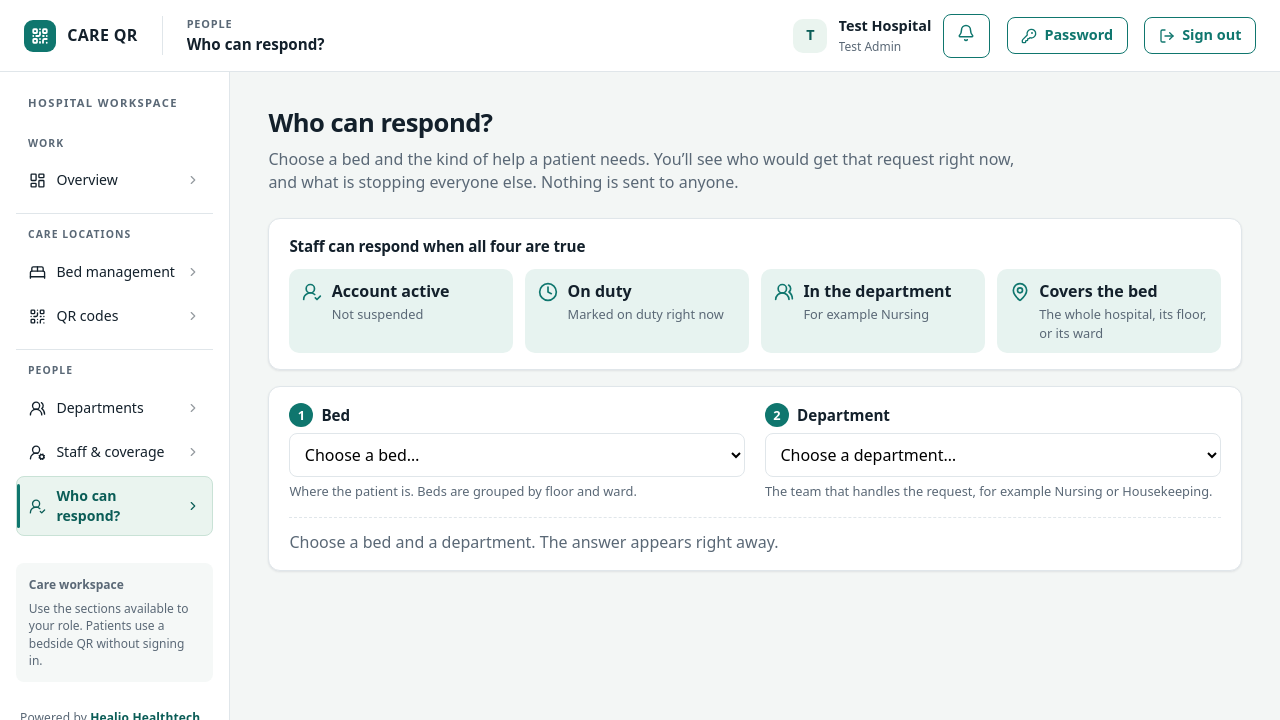
Scenario: Who can respond? › ignores an older answer that arrives after the choice changed
Step 1. Select "Bed A 01" in the dropdown labelled "Bed" → (517, 455), box [289,433,745,476]
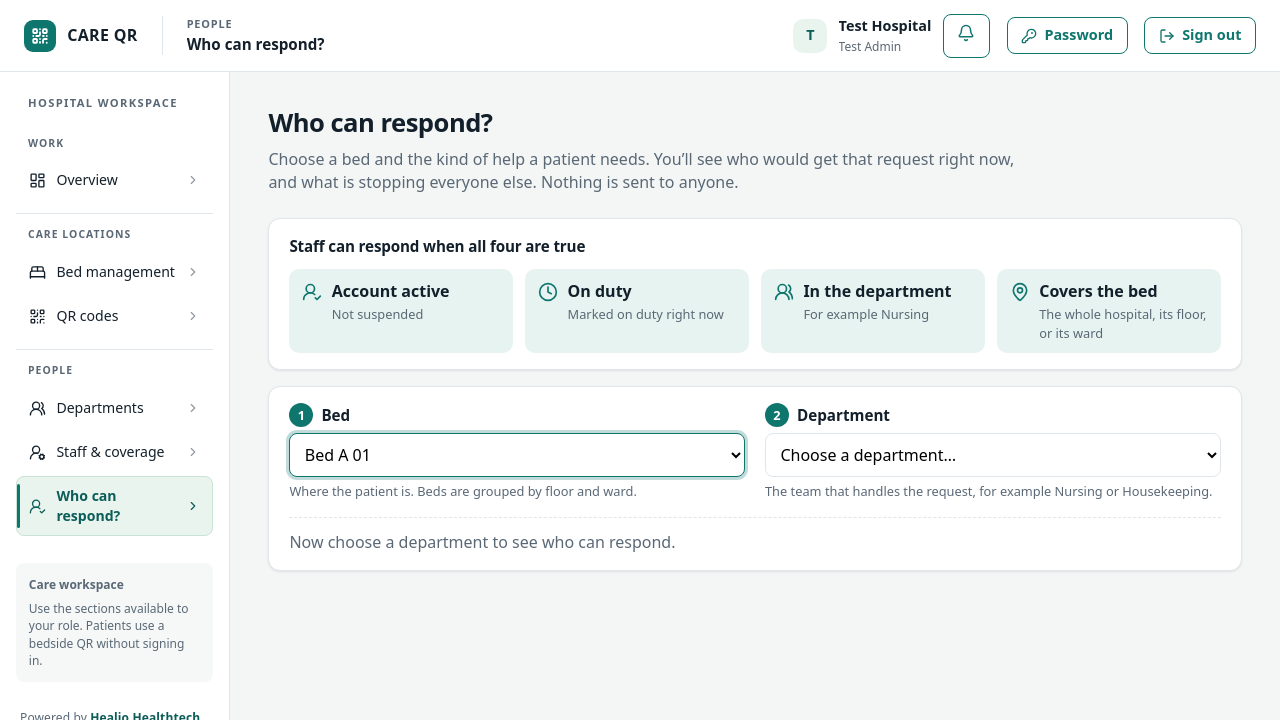
Step 2. Select "Nursing" in the dropdown labelled "Department" → (993, 455), box [765,433,1221,476]
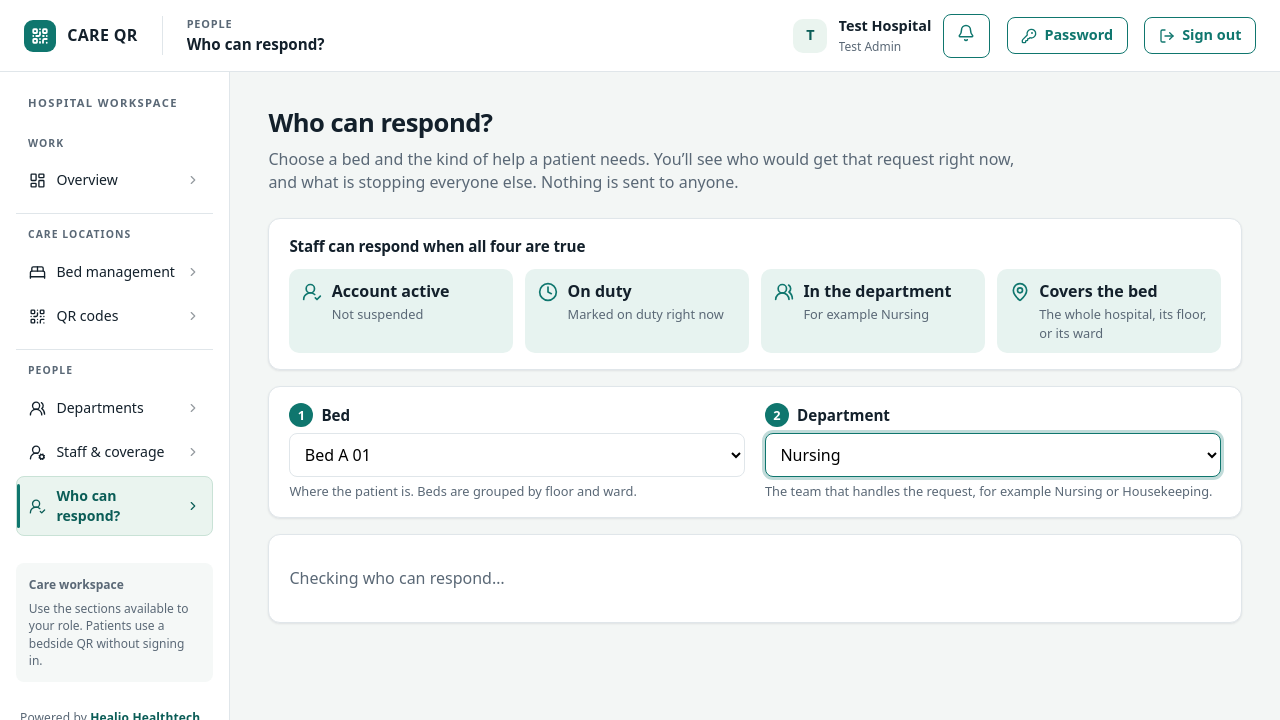
Now the text "Checking who can respond…" is shown, box [289,567,505,589]
Step 3. Select "Bed A 02" in the dropdown labelled "Bed" → (517, 455), box [289,433,745,476]
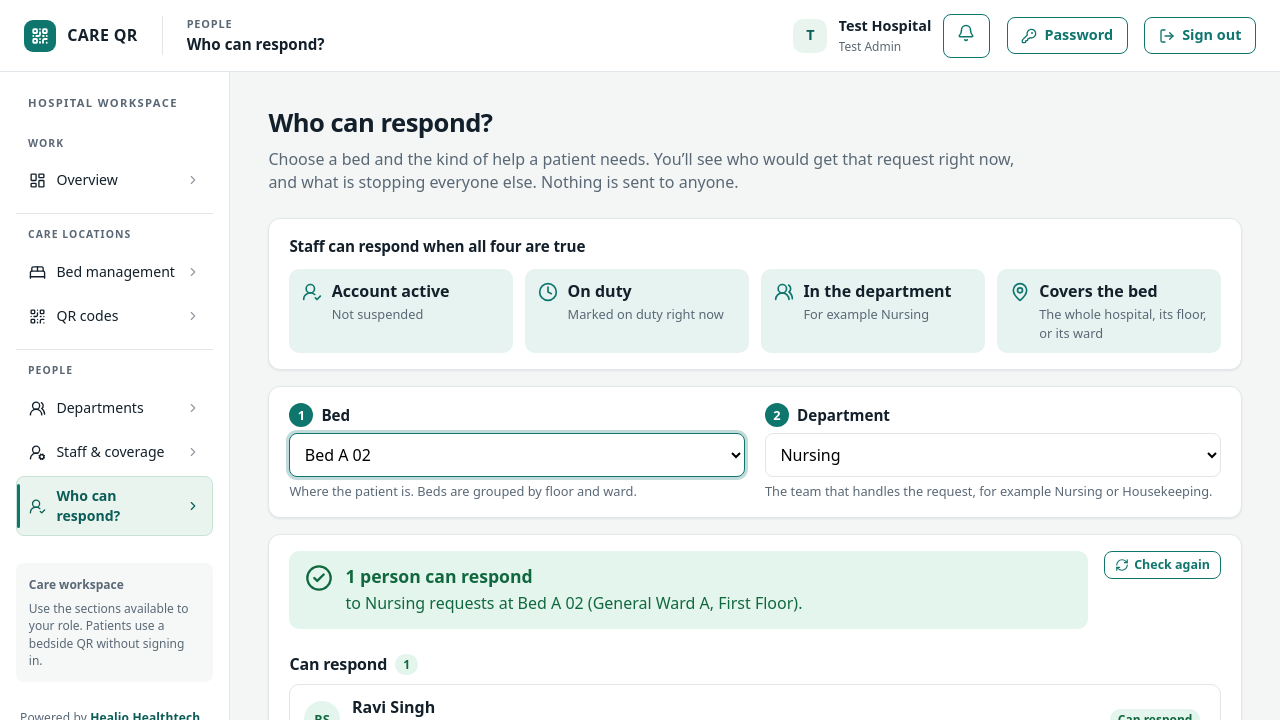
Now the message shows "Bed A 02", box [345,592,802,614]
Now the text "Ravi Singh" is shown, box [352,696,435,718]
